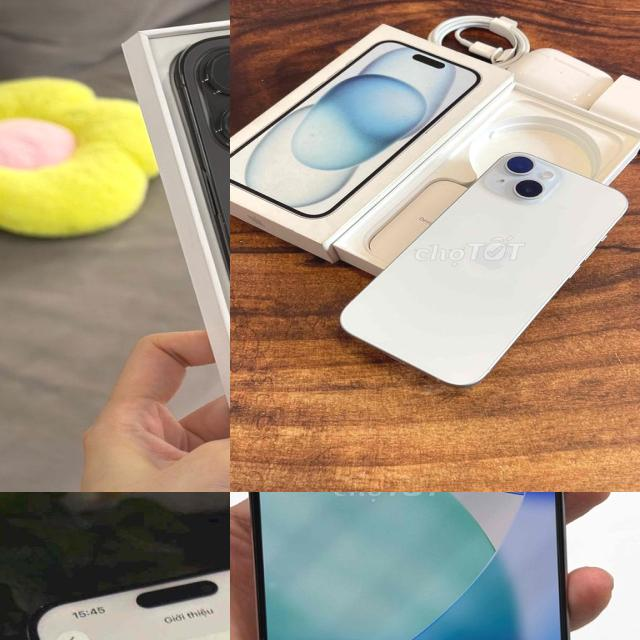gen_12_13: (336, 149, 640, 391)
gen_14: (166, 13, 230, 467)
gen_15: (23, 550, 230, 640)
gen_17: (230, 492, 583, 640)
